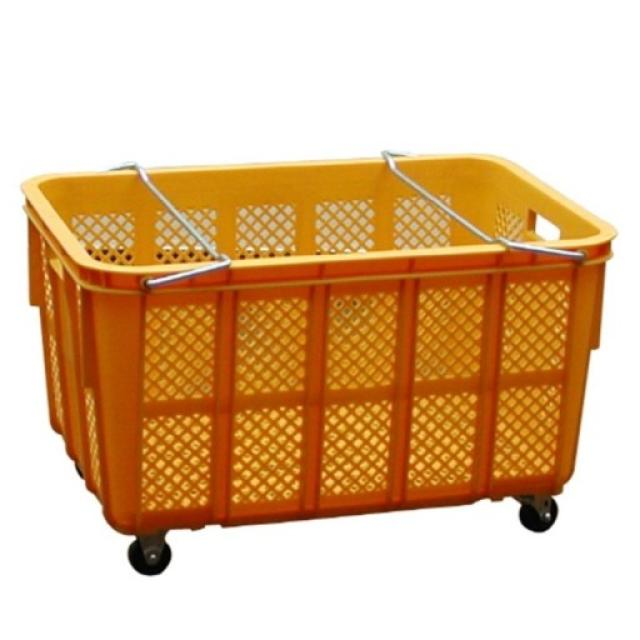basket: (22, 145, 633, 582)
